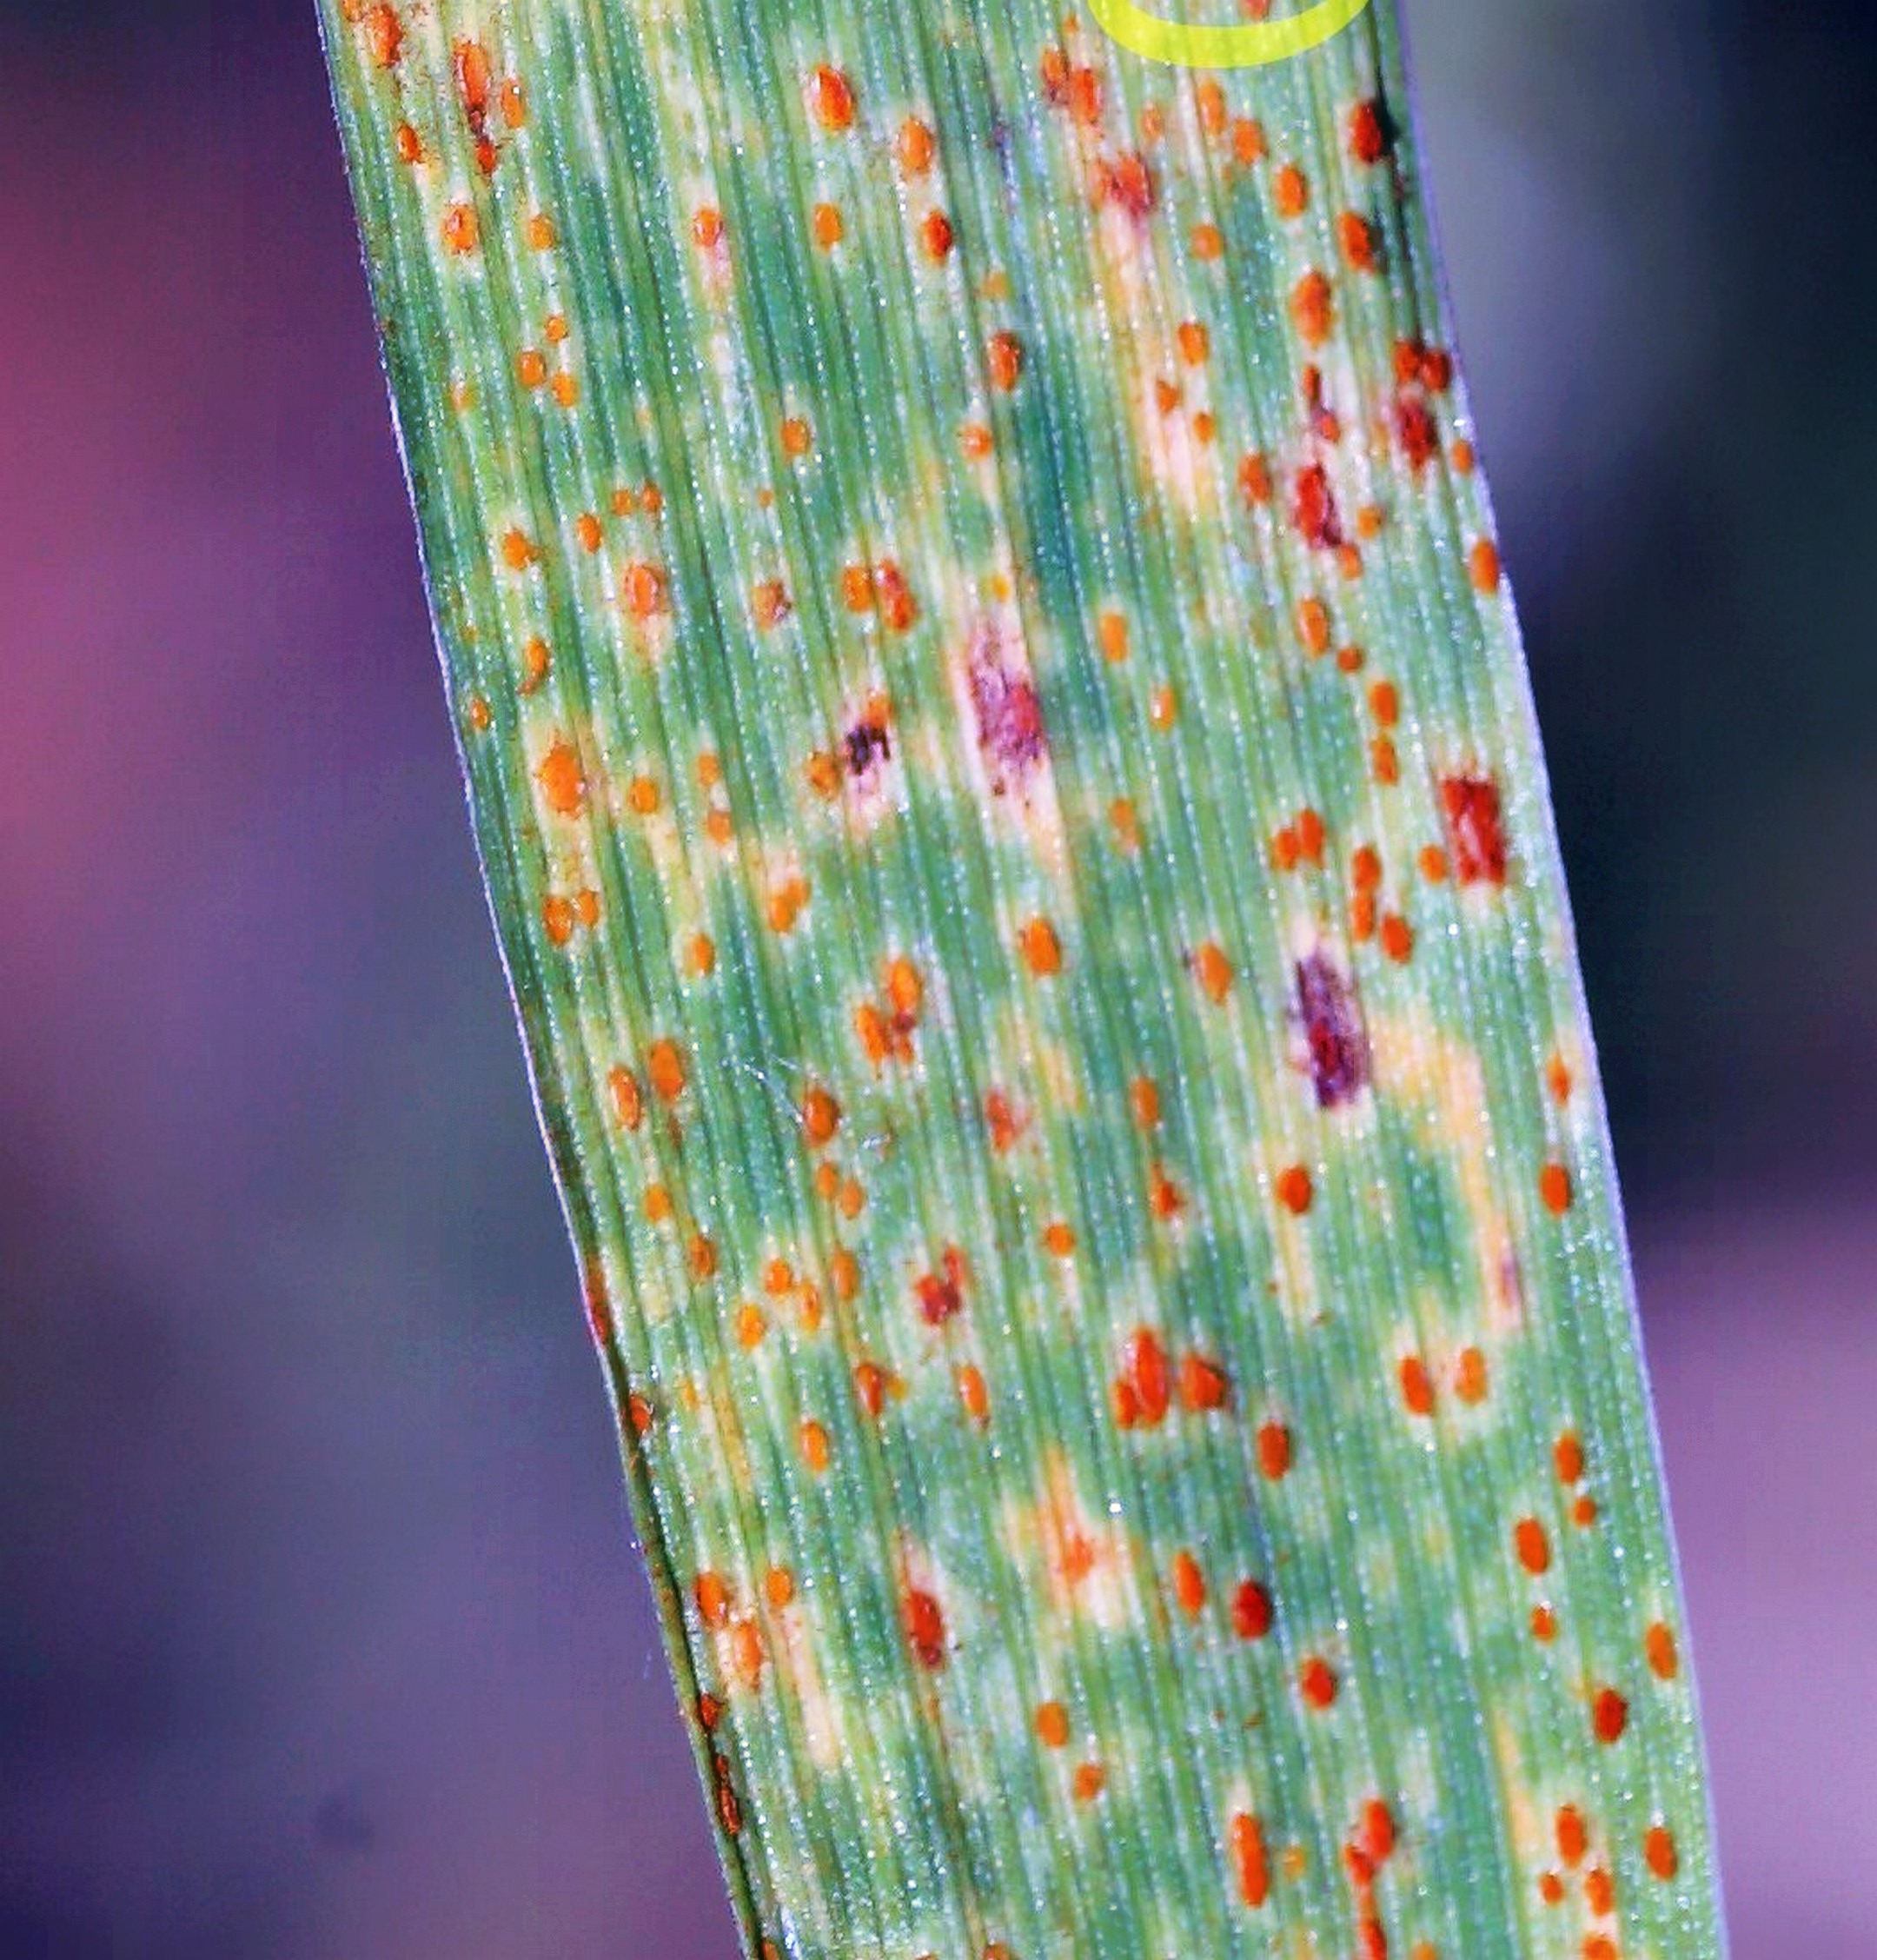Leaf Rust: (378, 178, 1790, 1858)
